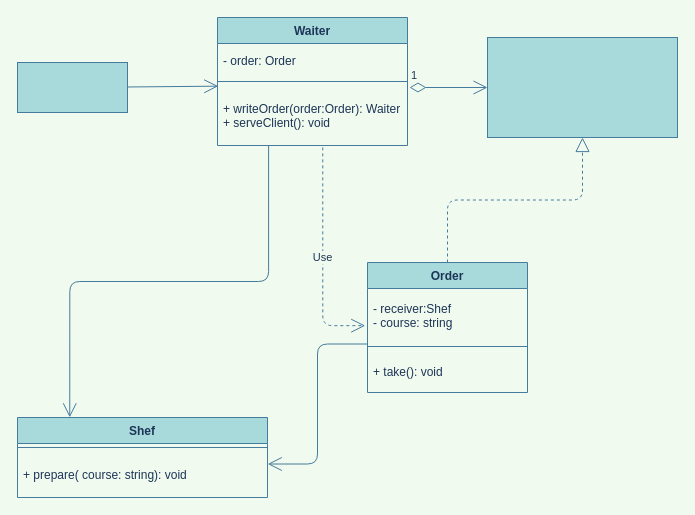
Some shapes in this 695 by 515 pixel diagram are drawn without their labels. Here are the shapes that lost their labels. From the top down, the box of each, then its label:
(16, 62, 128, 112): Client
(486, 36, 678, 138): <<Interface>> IOrder + take(): void
